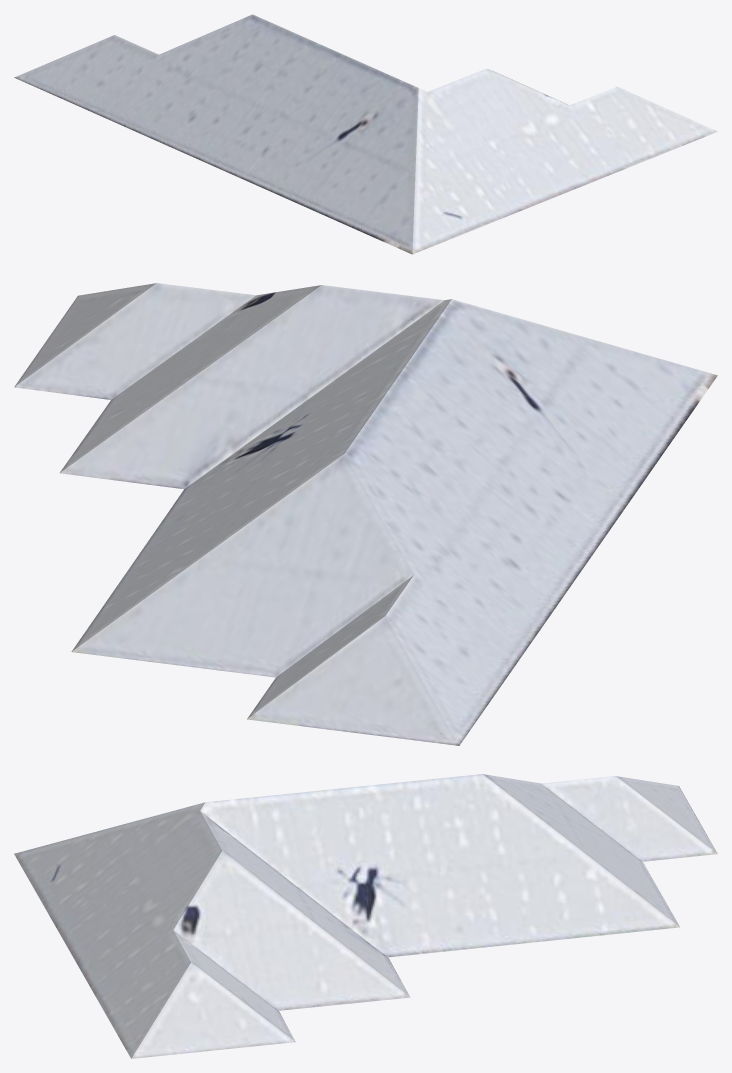
File: BK39_500_015027_0020_roof.obj
The picture shows the model from 3 angles, top to bottom: view 1: azimuth 30°, elevation 25°; view 2: azimuth 150°, elevation 25°; view 3: azimuth 270°, elevation 25°; orthographic projection. The views are drawn at different scales.
Visible parts, largest first — view 1: BK39_500_015027_0020_roof; view 2: BK39_500_015027_0020_roof; view 3: BK39_500_015027_0020_roof.
Part boxes in pixels (x1,y1,x2,y2): BK39_500_015027_0020_roof: (14, 14, 717, 254); BK39_500_015027_0020_roof: (14, 283, 717, 745); BK39_500_015027_0020_roof: (14, 774, 717, 1058).
Bounding box in the file's own units: 402 × 70 × 438.
Materials: 1 (1 with a texture image).
